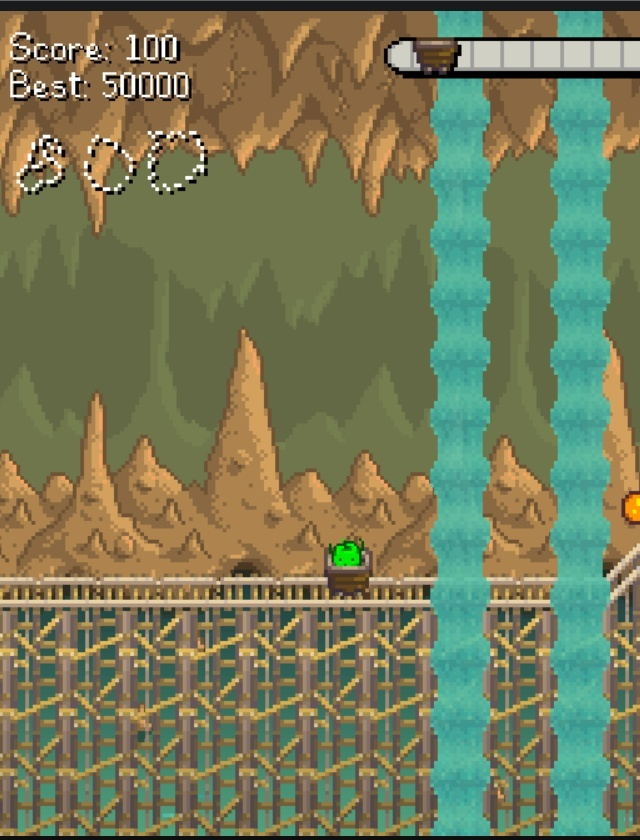coins: (623, 491, 639, 523)
minecart: (325, 538, 371, 595)
tracks: (0, 538, 639, 618)
